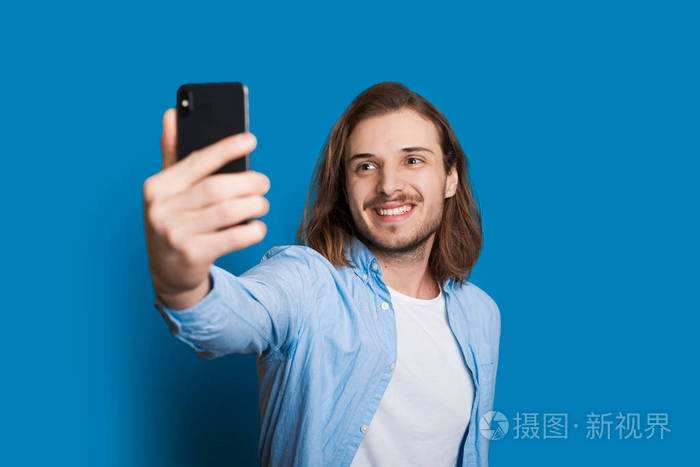taking photos: (133, 76, 274, 295)
